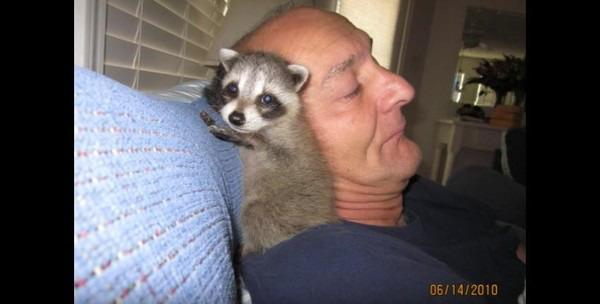raccoon: (195, 44, 336, 264)
